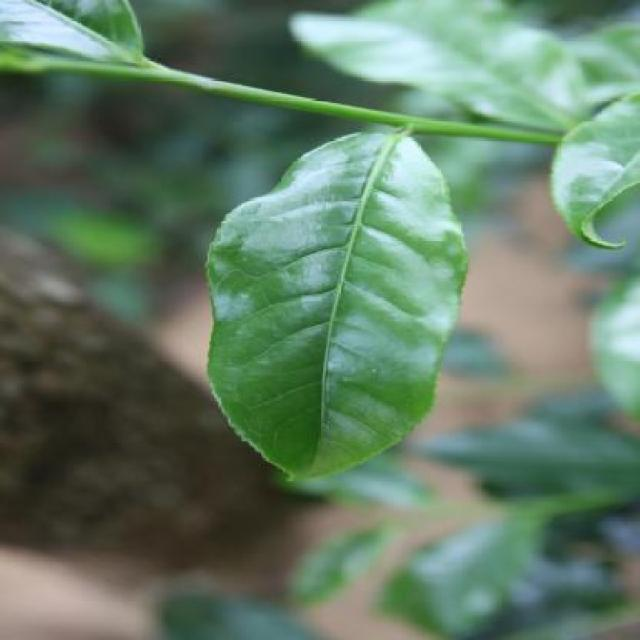Tea leaf: (155, 157, 423, 509)
